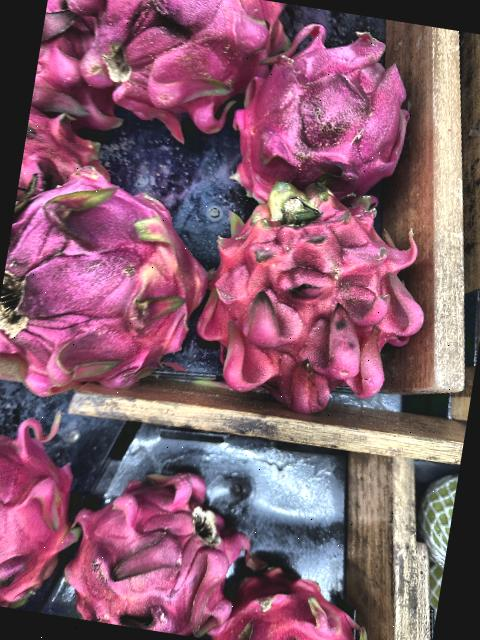buah-naga-matang: (180, 162, 446, 420), (0, 160, 227, 411), (240, 14, 430, 217), (52, 452, 255, 640), (43, 0, 283, 143), (0, 399, 99, 617), (218, 538, 390, 640)
